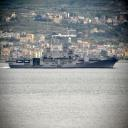Portanaves: (6, 37, 122, 70)
